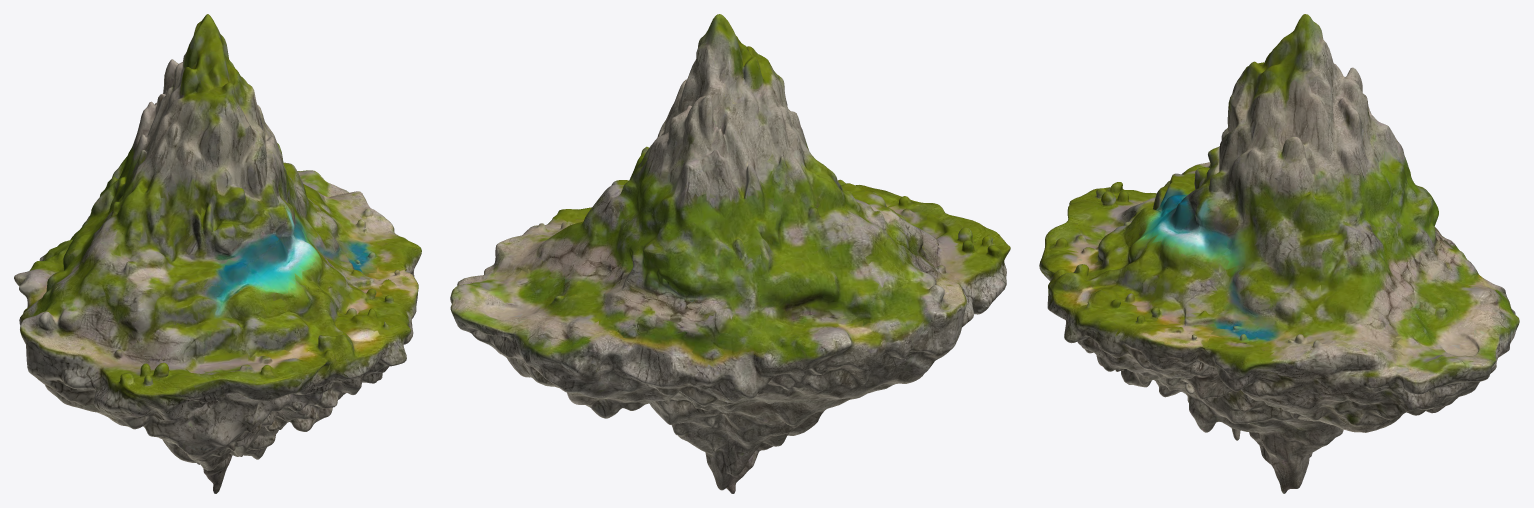
File: The_object_is_a_float.glb
3 renders of one model, left to right at view 1: azimuth 30°, elevation 25°; view 2: azimuth 150°, elevation 25°; view 3: azimuth 270°, elevation 25°, orthographic. The views are drawn at different scales.
Visible parts, largest first — view 1: The_object_is_a_float; view 2: The_object_is_a_float; view 3: The_object_is_a_float.
Part boxes in pixels (bbox=[...]): The_object_is_a_float: bbox=[14, 14, 421, 493]; The_object_is_a_float: bbox=[450, 14, 1010, 493]; The_object_is_a_float: bbox=[1039, 14, 1519, 493].
Bounding box in the file's own units: 1.78 × 2 × 1.81.
1 material, 1 textured.
